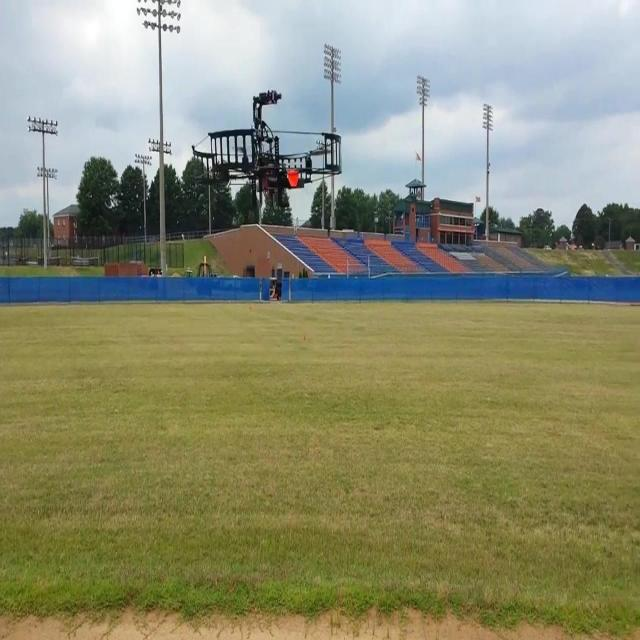UAV: (192, 89, 342, 208)
